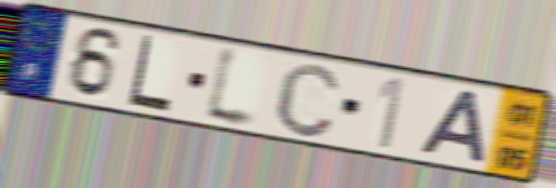1: (375, 74, 408, 153)
6: (64, 24, 122, 101)
A: (415, 87, 489, 168)
C: (271, 60, 344, 141)
L: (200, 40, 261, 135), (125, 32, 175, 115)
